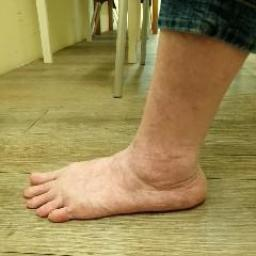Lateral View -Left Foot-: (13, 124, 223, 234)
